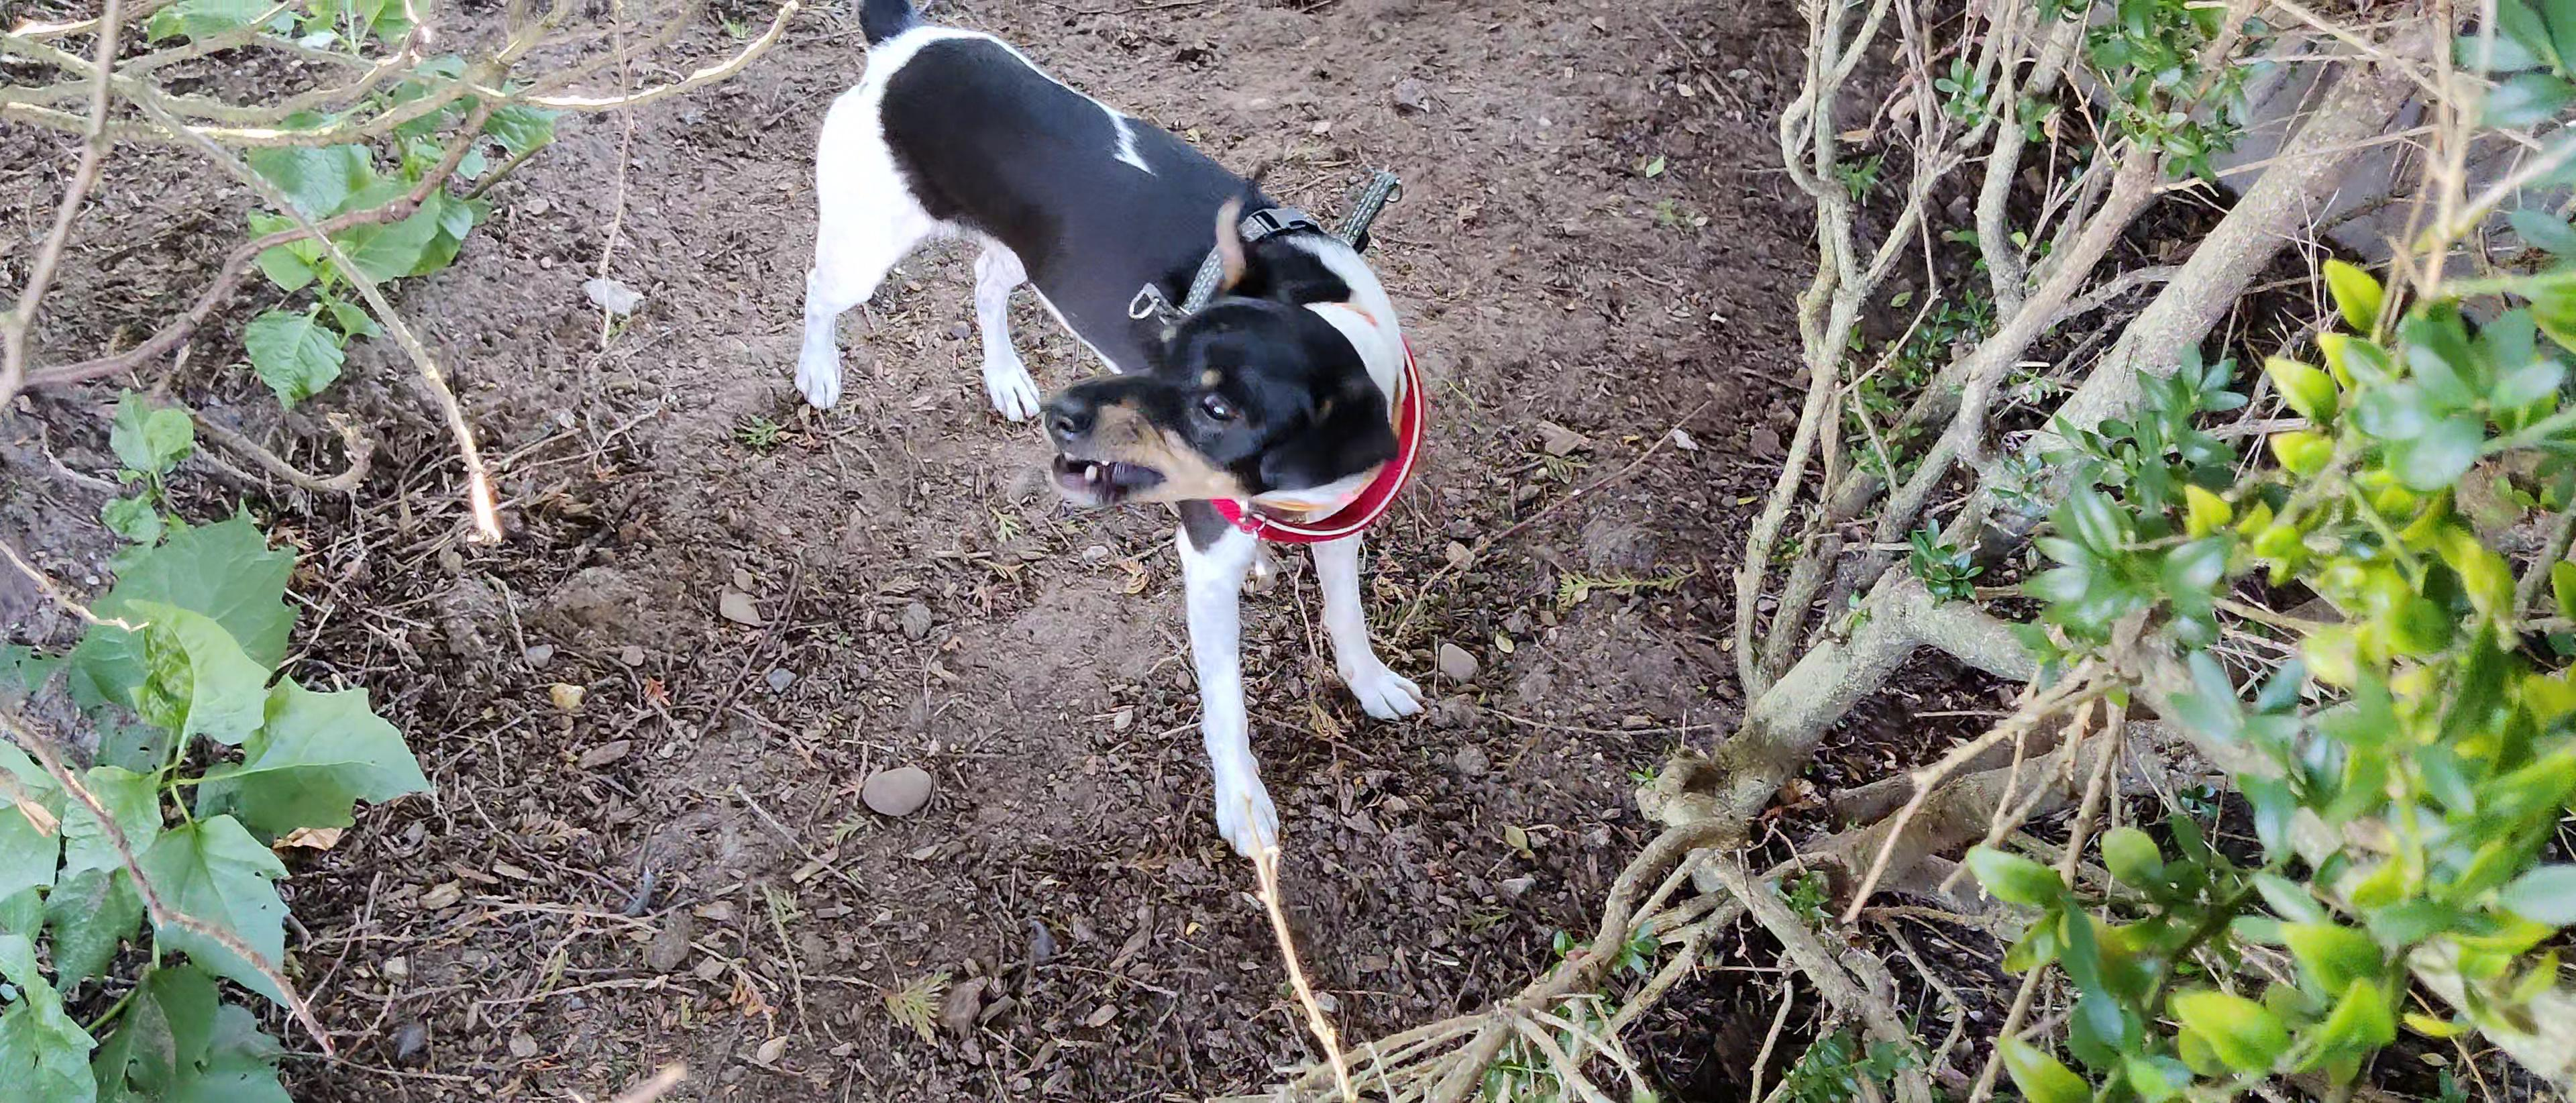Dog: (770, 0, 1447, 861)
